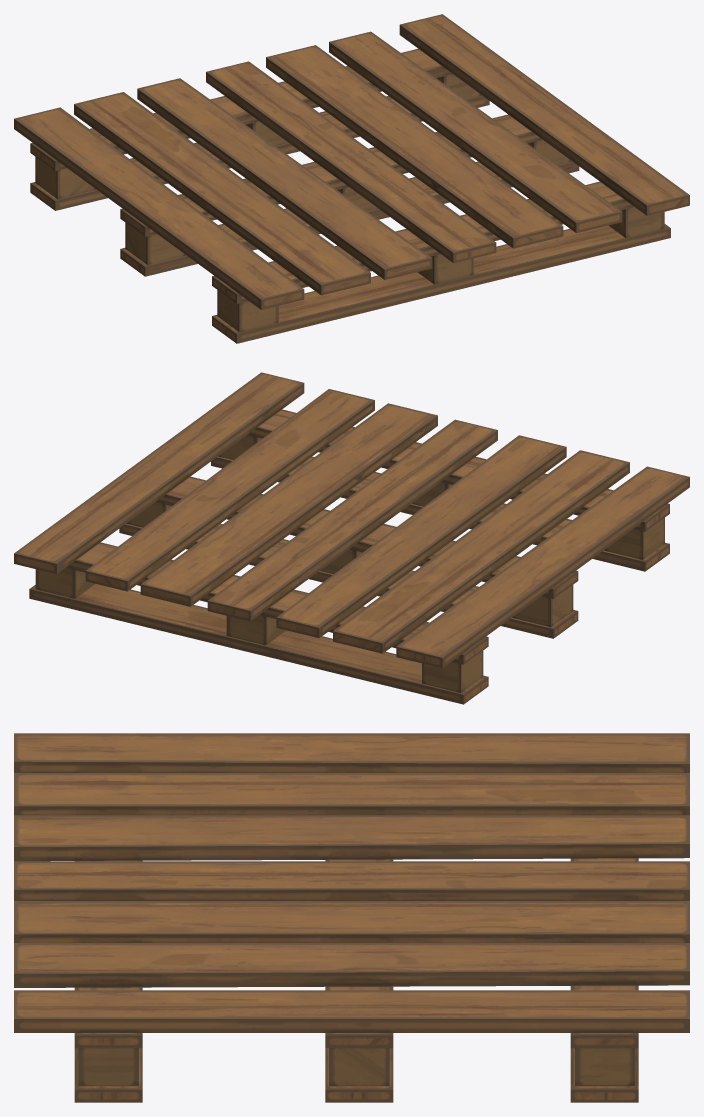
Rendered from SM_wooden_pallet.glb.
3 views of the same model, one above another, from view 1: azimuth 30°, elevation 25°; view 2: azimuth 150°, elevation 25°; view 3: azimuth 270°, elevation 25° (orthographic). The views are drawn at different scales.
Parts seen in each view (by area): view 1: SM_wooden_pallet; view 2: SM_wooden_pallet; view 3: SM_wooden_pallet.
Part boxes in pixels (bbox=[...]): SM_wooden_pallet: bbox=[14, 14, 689, 343]; SM_wooden_pallet: bbox=[14, 372, 689, 704]; SM_wooden_pallet: bbox=[14, 733, 689, 1102].
Size of the model in its own units: 1.52 by 0.2 by 1.5.
Materials: 1 (1 with a texture image).
